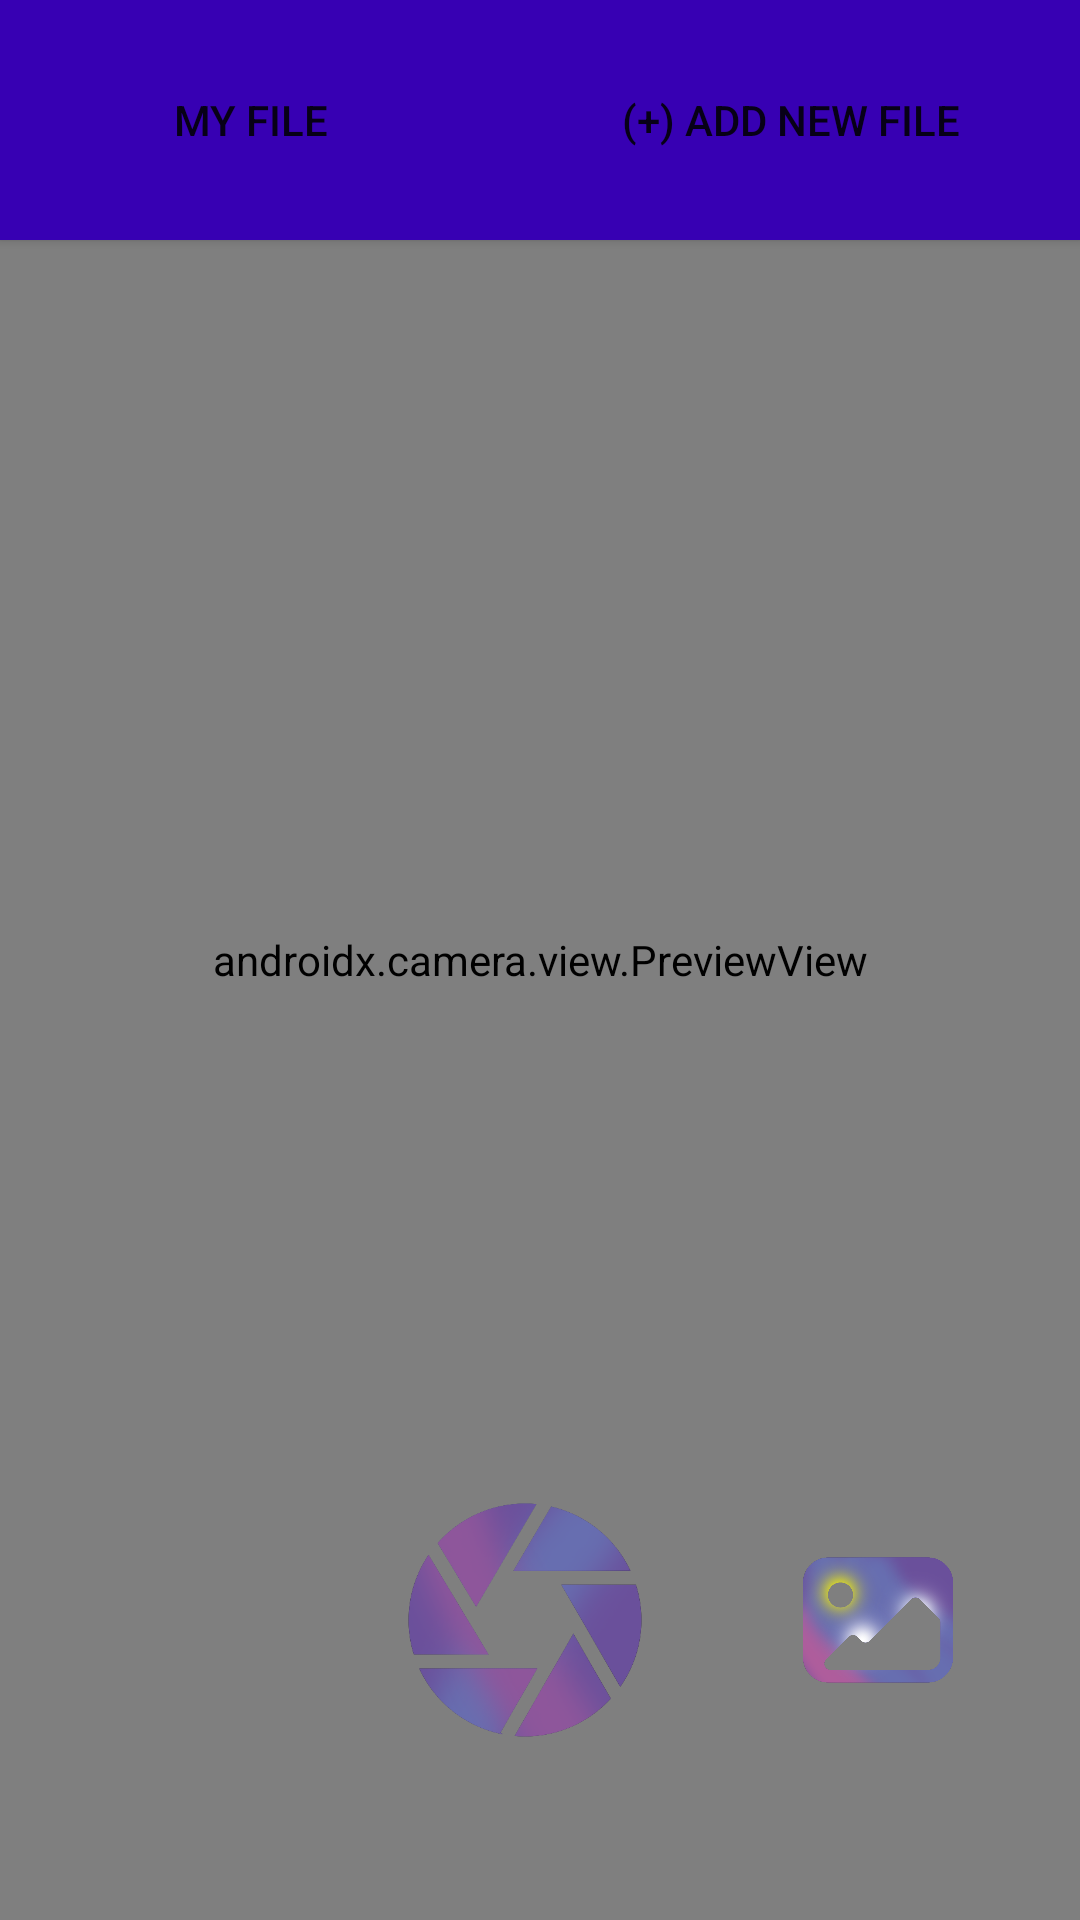

Named icons in this screenshot (1080px x 1920px) and their bounding boxes, box(x1, y1, x2, y2):
camera shutter: box(408, 1503, 642, 1737)
gallery: box(803, 1557, 953, 1683)
